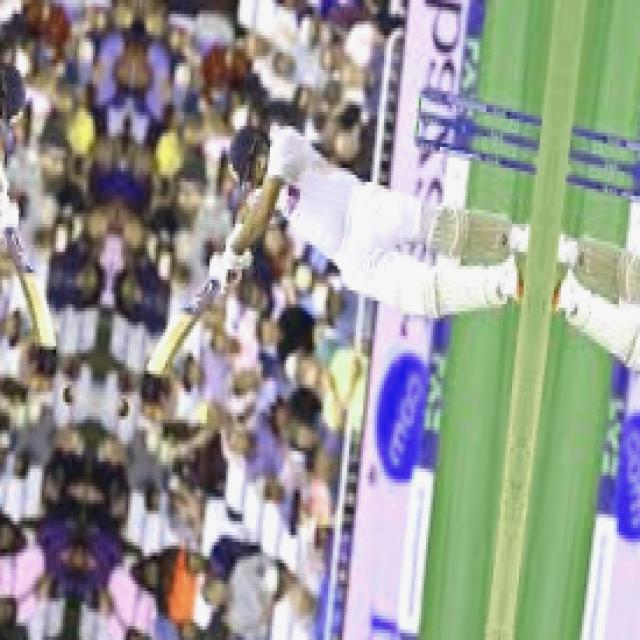toe: (143, 364, 165, 386)
